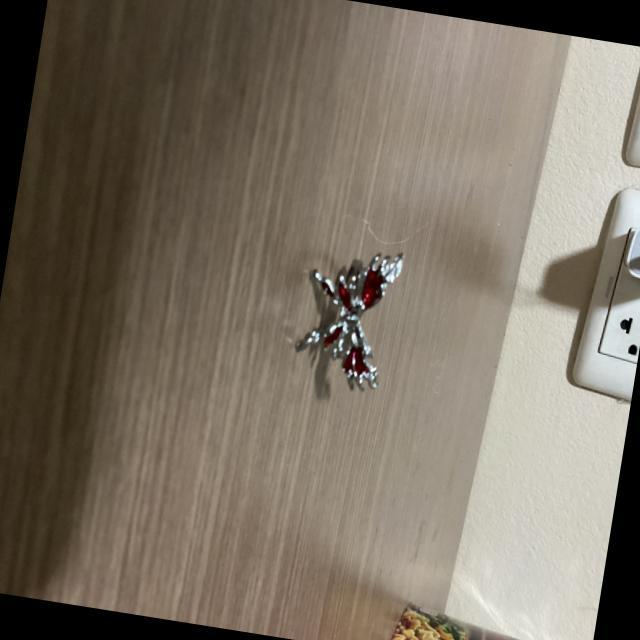Ring: (281, 251, 431, 400)
